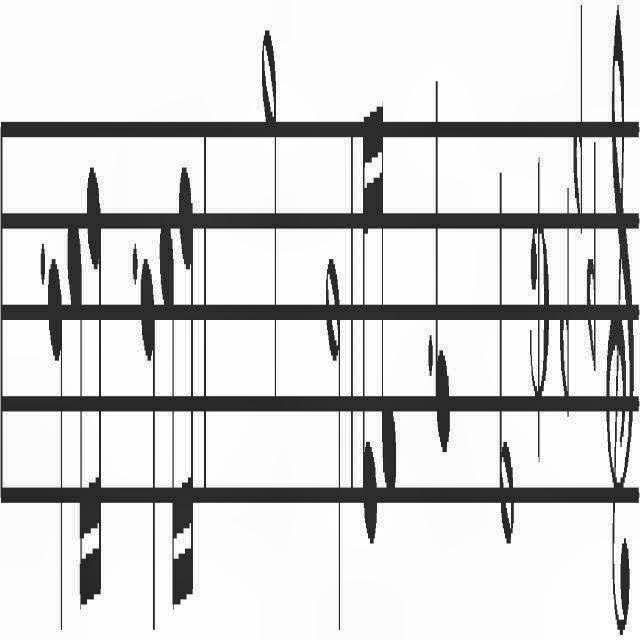Bass-clef: (606, 8, 634, 640)
Bemol: (558, 182, 570, 430), (586, 144, 598, 372), (573, 0, 585, 220)
Half-note: (494, 144, 516, 554), (324, 236, 344, 626), (261, 1, 279, 423)
Quarter-note: (432, 67, 452, 453), (46, 264, 66, 612), (140, 250, 156, 626)
Sixteenth-note: (64, 227, 90, 606), (85, 148, 106, 612), (360, 76, 380, 540), (157, 211, 181, 597), (378, 81, 398, 503), (178, 163, 196, 583)
